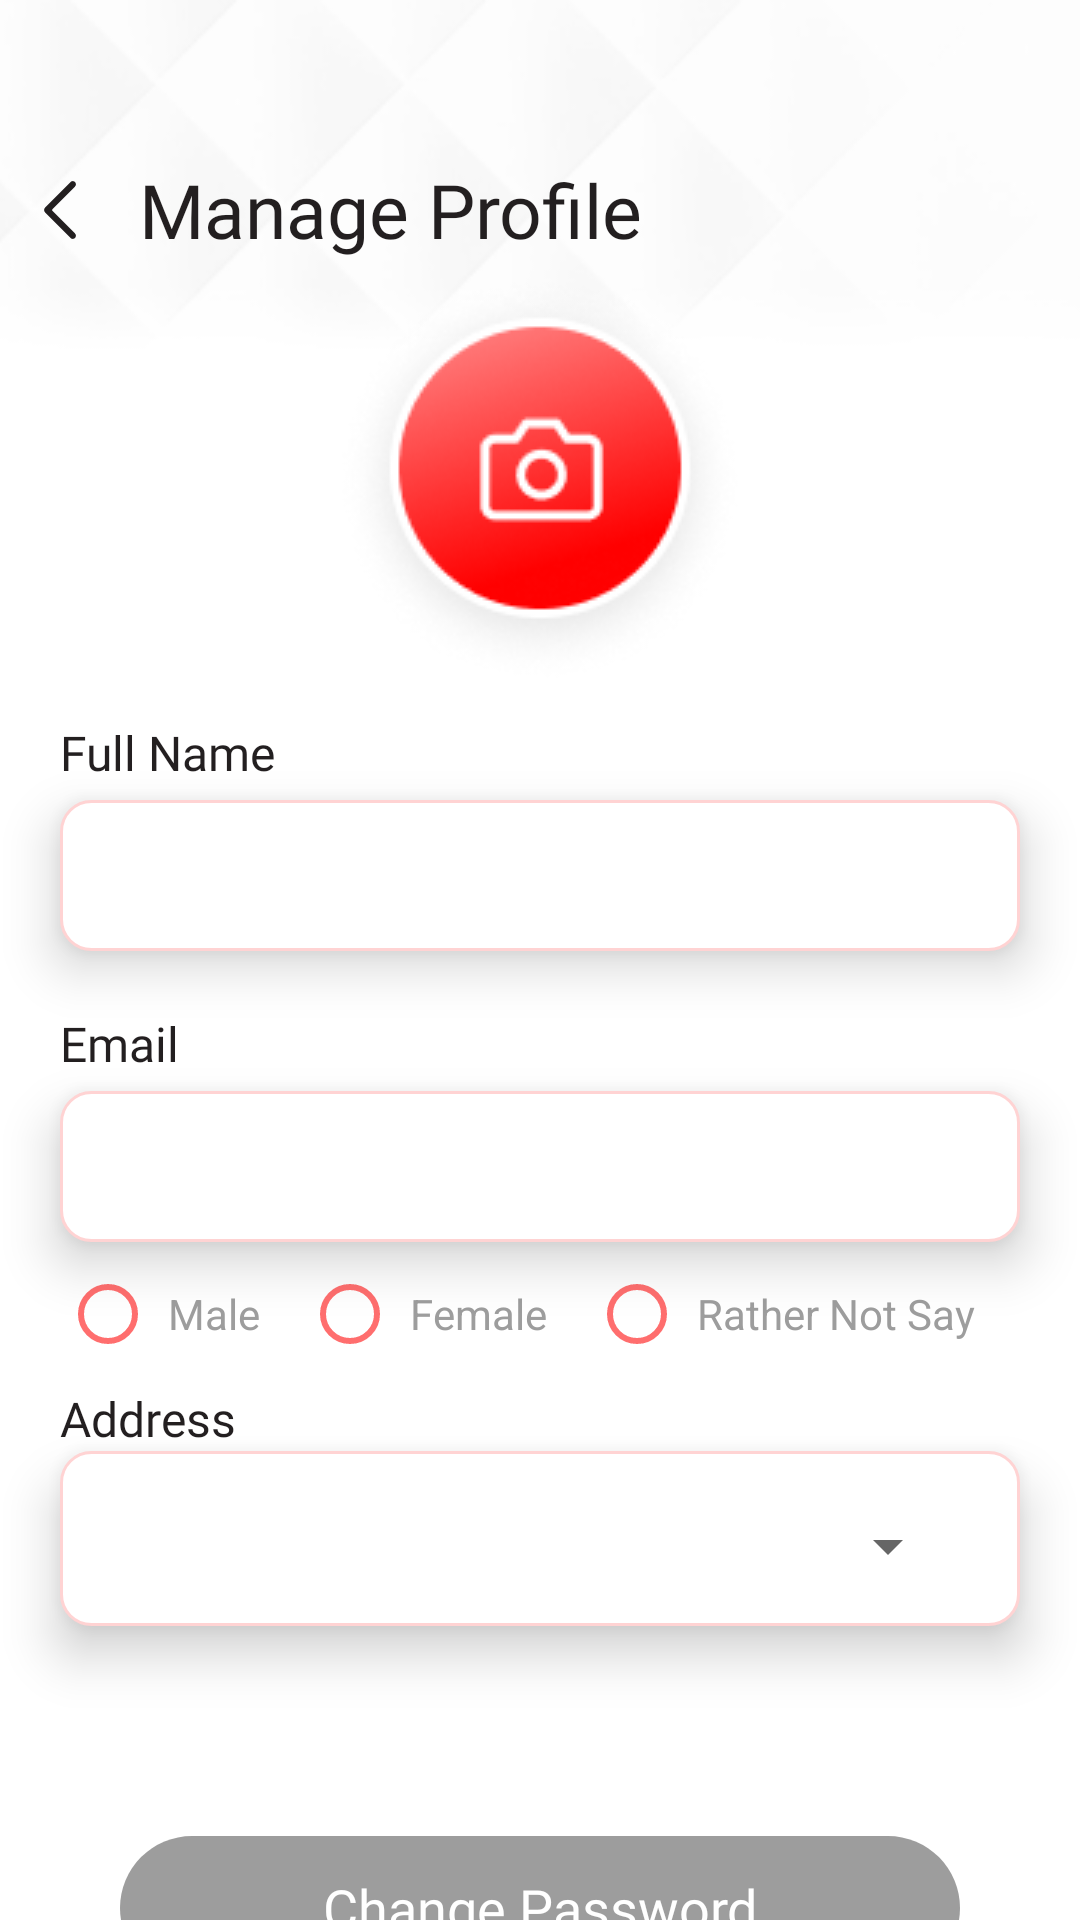

Point at icon controls on the screen. Image size 1080w x 1920h, points as (x=x, y=y).
back: (x=60, y=210)
im camera: (x=540, y=468)
